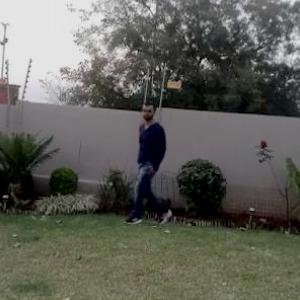follow: (130, 97, 176, 229)
